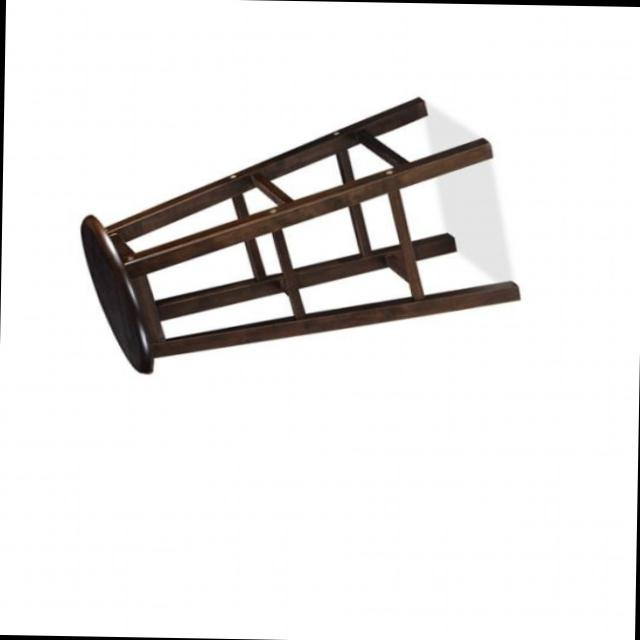Chair: (75, 88, 526, 382)
